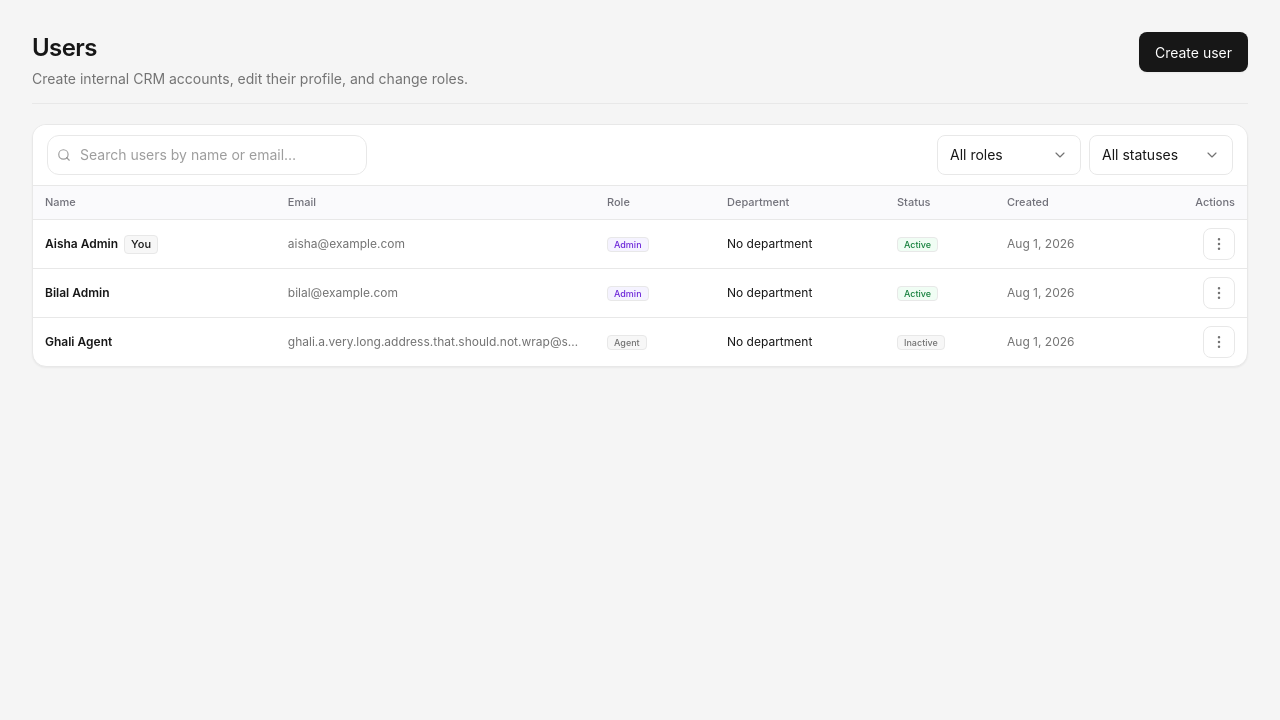
Test case: users management — table › opens the confirmation through a portal outside the table and its scroll wrapper
The width and height of the screenshot is (1280, 720).
Click the button named "Actions" in the row of "Bilal Admin" at {"x": 1219, "y": 293}, box x1=1203 y1=277 x2=1235 y2=309
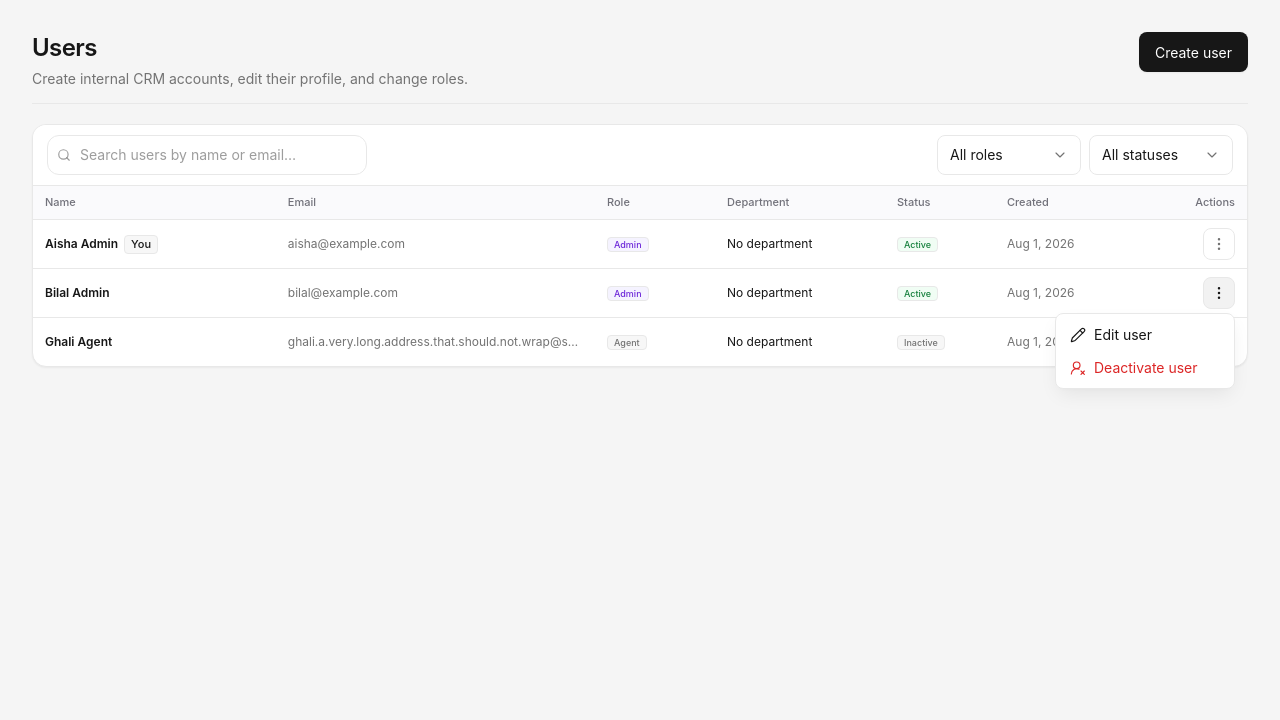
Click the menu item "Deactivate user" at {"x": 1145, "y": 368}, box x1=1060 y1=351 x2=1230 y2=384
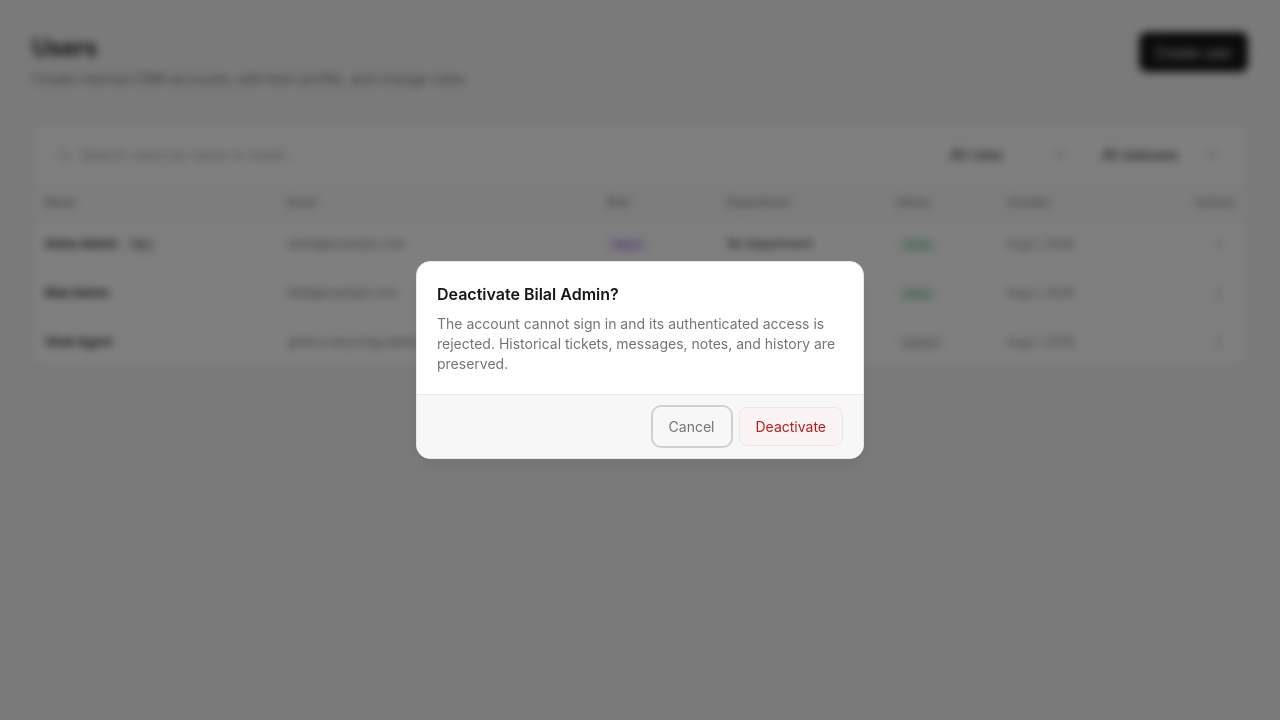
Result: the dialog "Bilal Admin" is shown
